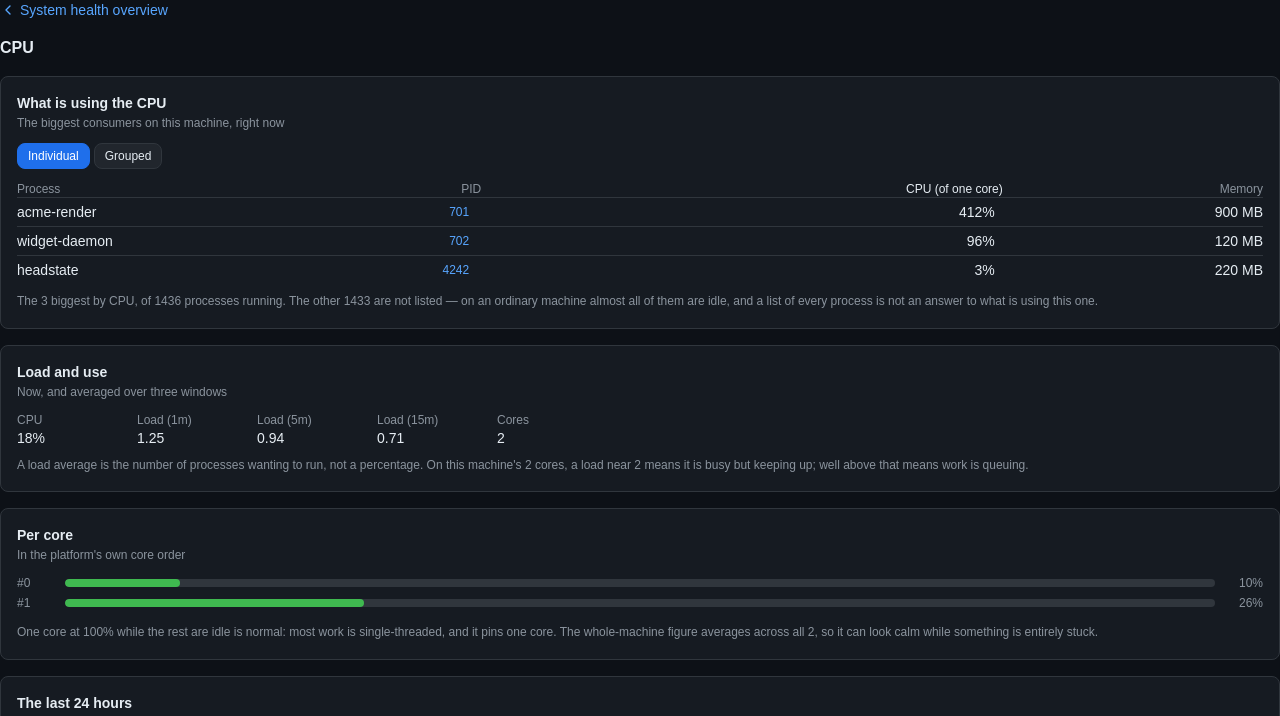
Scenario: the CPU page names the processes responsible › adds no PID and no copy button to the grouped rows
Expected: the button named "copy pid 701" is shown, 445,204 -> 473,220
Step 1. Click the button "Grouped" → click(128, 156), box 94,143 -> 162,169
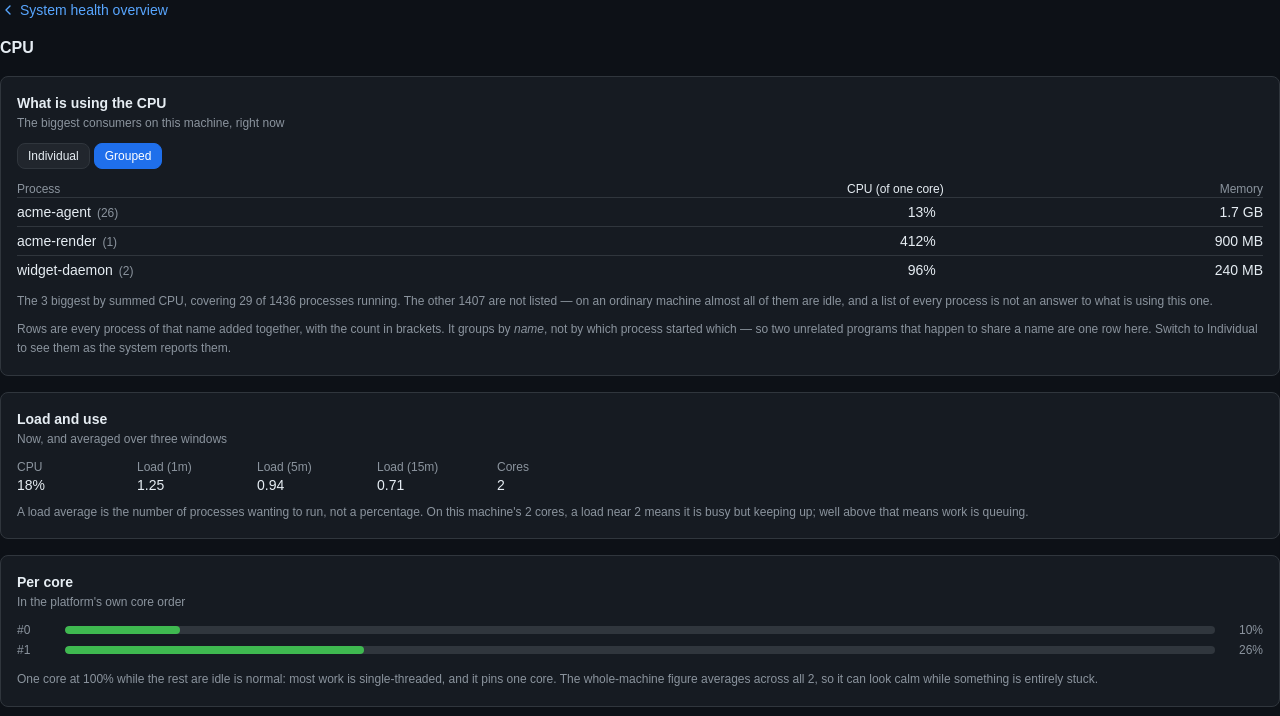
Expected: the column heading "PID" is gone
